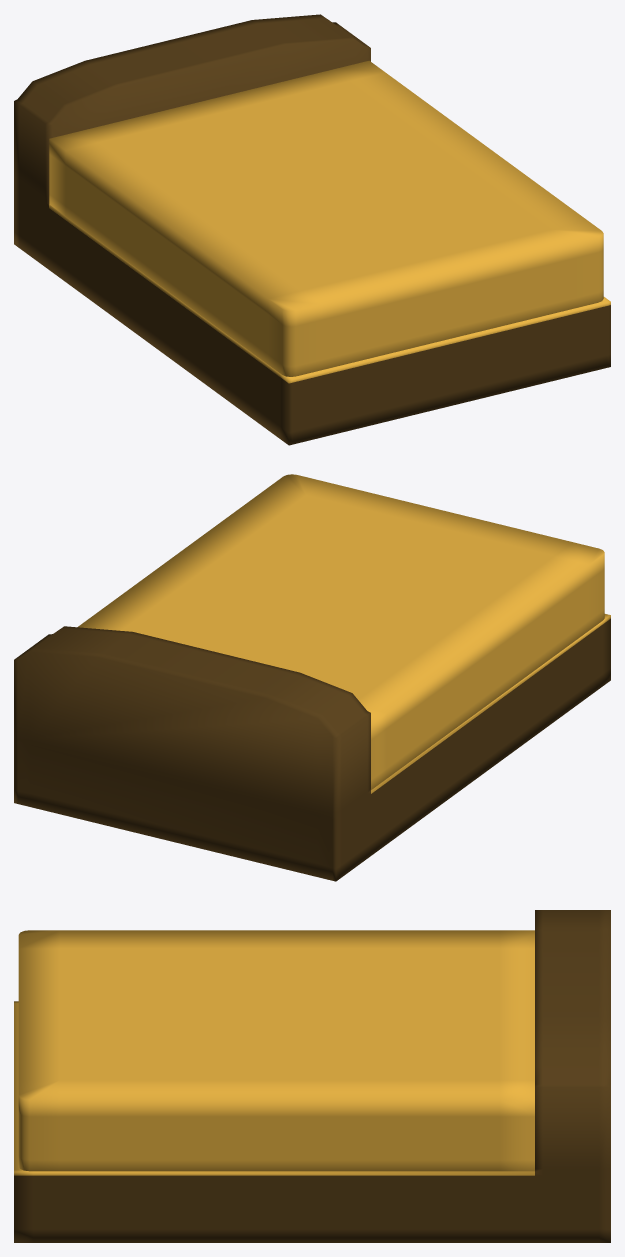
File: Bed.fbx
3 views of the same model, one above another, from view 1: azimuth 30°, elevation 25°; view 2: azimuth 150°, elevation 25°; view 3: azimuth 270°, elevation 25° (orthographic). The views are drawn at different scales.
Parts seen in each view (by area): view 1: Cube.023; view 2: Cube.023; view 3: Cube.023.
Boxes of the visible parts, x1,y1,x2,y2 form: Cube.023: [14, 14, 610, 445]; Cube.023: [14, 474, 610, 881]; Cube.023: [14, 910, 610, 1242].
Size of the model in its own units: 187 by 92.19 by 276.
